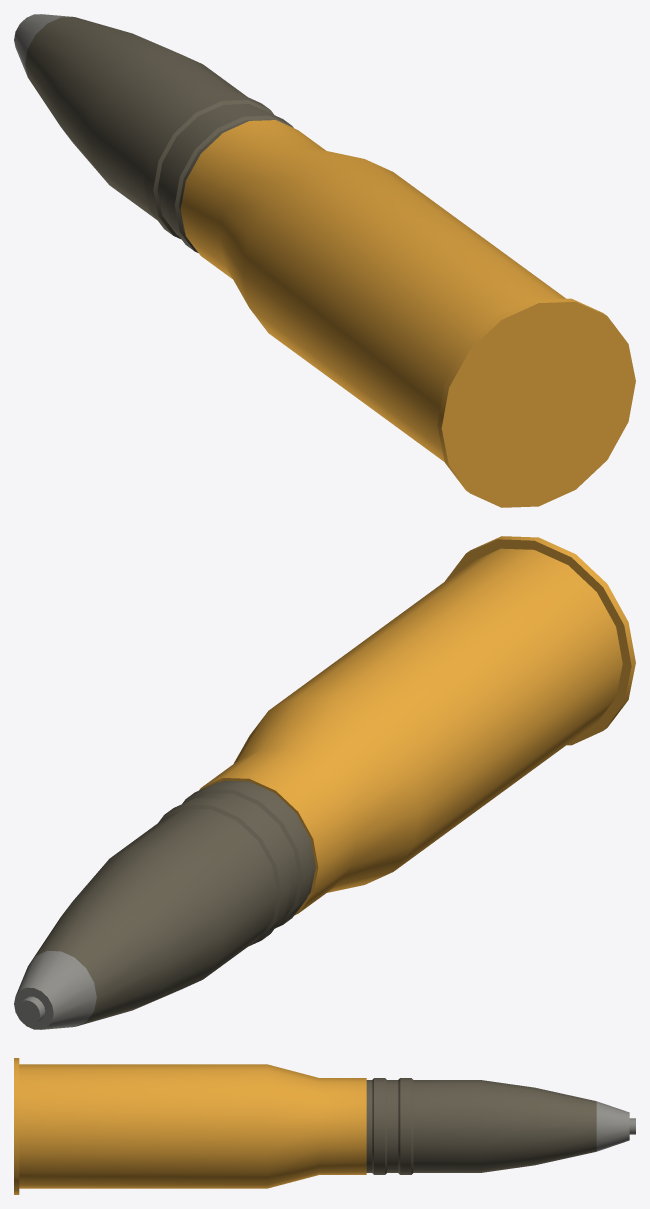
File: ap_shell_75panther.fbx
3 views of the same model, one above another, from view 1: azimuth 30°, elevation 25°; view 2: azimuth 150°, elevation 25°; view 3: azimuth 270°, elevation 25° (orthographic). The views are drawn at different scales.
Parts seen in each view (by area): view 1: Cylinder; view 2: Cylinder; view 3: Cylinder.
Boxes of the visible parts, <box> form: Cylinder: <box>14,14,635,507</box>; Cylinder: <box>14,536,635,1029</box>; Cylinder: <box>14,1058,635,1194</box>.
Bounding box in the file's own units: 110 × 110 × 500.
